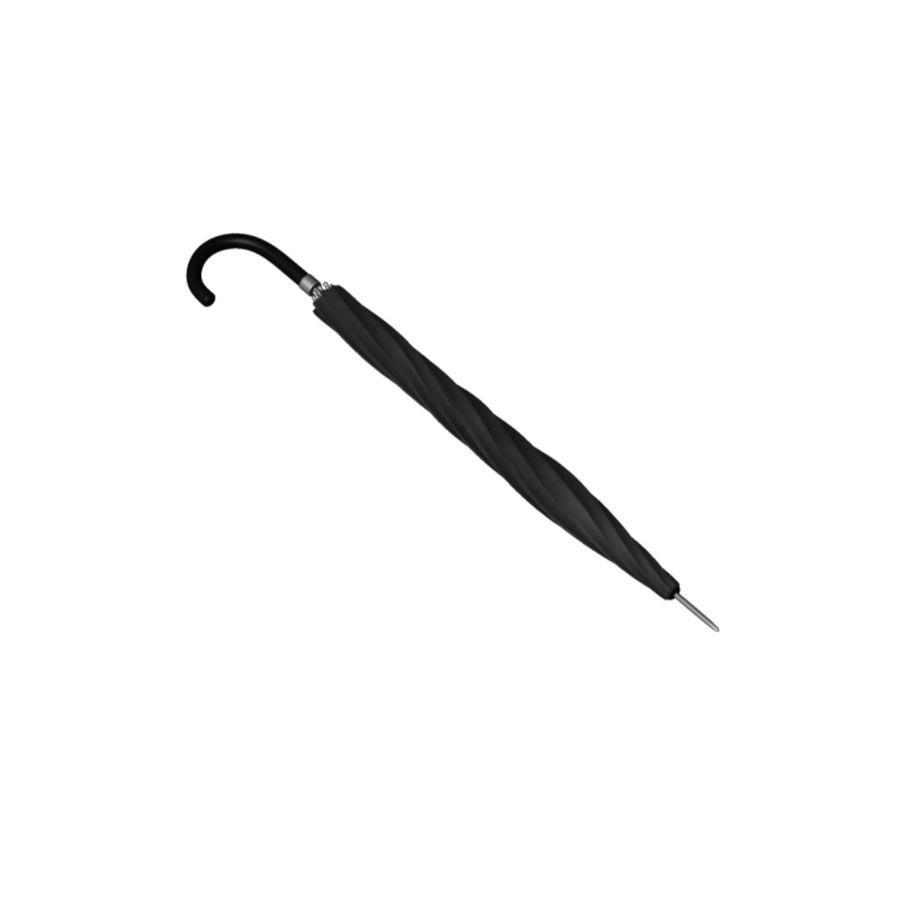Umbrella: (161, 198, 745, 662)
